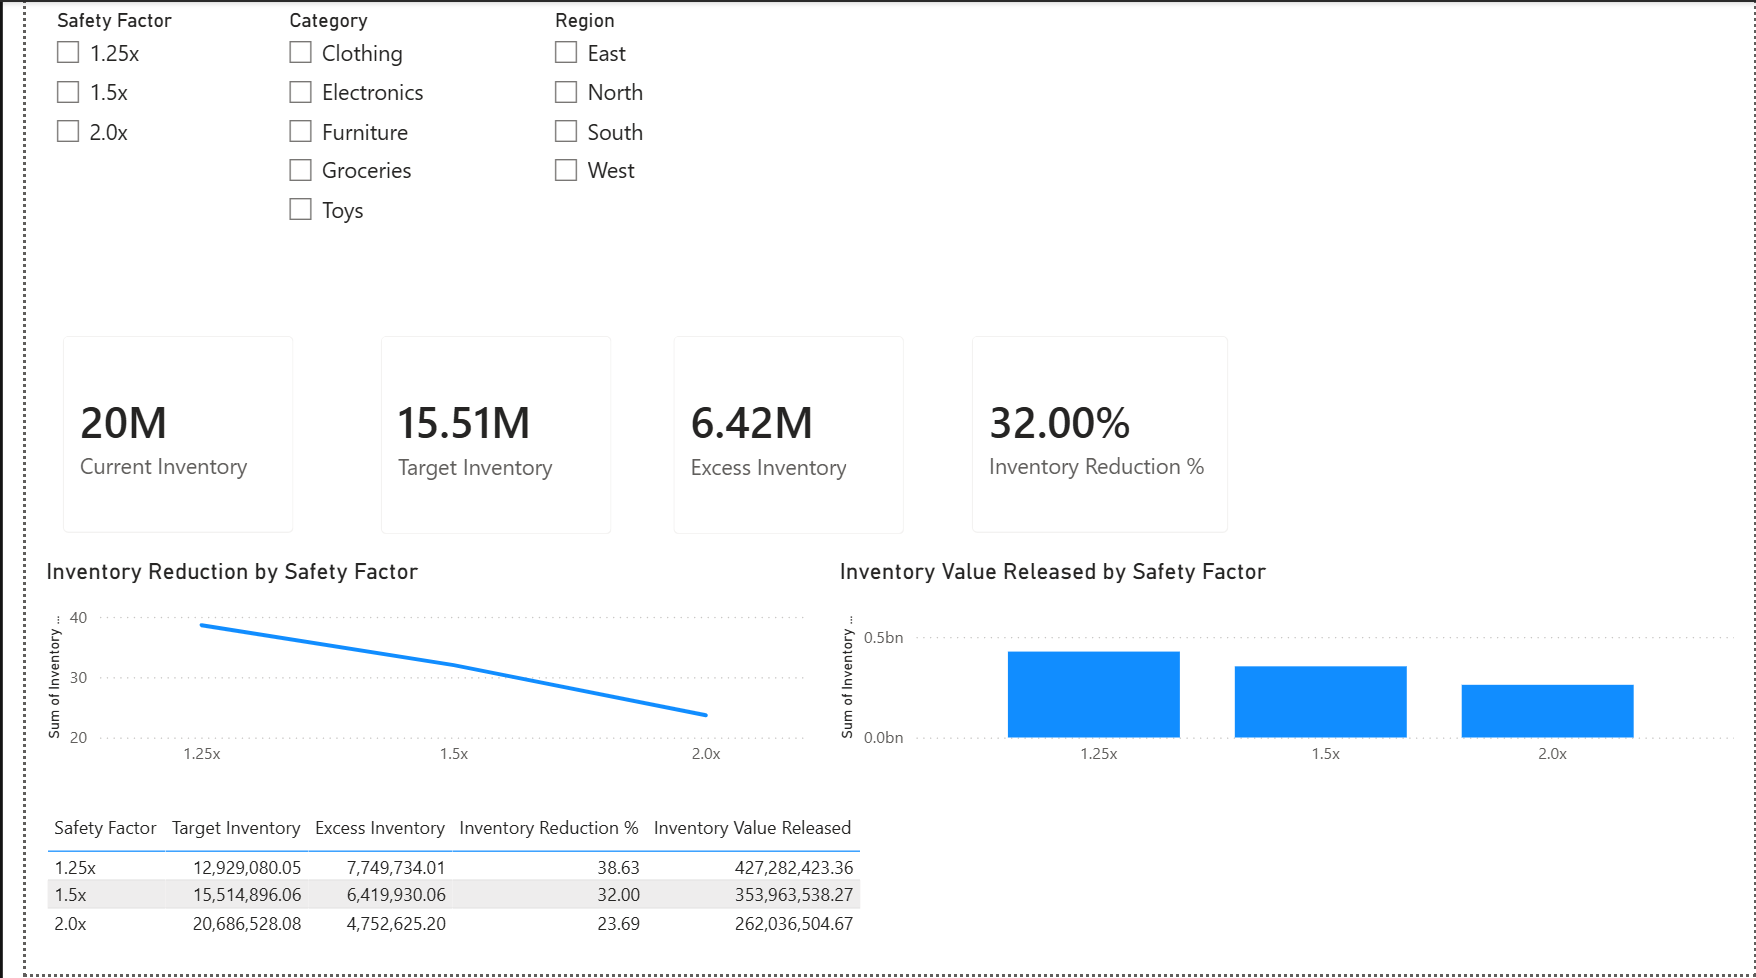

The dashboard page shown, as its layout file describes it:
{"tool":"powerbi","page":{"name":"Inventory Optimization","canvas":[1280,720],"ordinal":1},"visuals":[{"type":"slicer","fields":{"Values":["smart_retail_inventory_scenarios.Safety Factor"]},"box":[10.1,0,166.6,179.5],"z":0},{"type":"slicer","fields":{"Values":["retail_store_inventory.Category"]},"box":[182.4,0,165.1,179.5],"z":1000},{"type":"slicer","fields":{"Values":["retail_store_inventory.Region"]},"box":[379.1,0,142.2,165.1],"z":2000},{"type":"cardVisual","fields":{"Data":["retail_store_inventory.Current Inventory"]},"box":[10.1,229.8,205.4,180.9],"z":3000},{"type":"cardVisual","fields":{"Data":["retail_store_inventory.Target Inventory"]},"box":[245.6,229.8,205,181],"z":4000},{"type":"cardVisual","fields":{"Data":["retail_store_inventory.Excess Inventory"]},"box":[462.4,229.8,205,181],"z":5000},{"type":"cardVisual","fields":{"Data":["retail_store_inventory.Inventory Reduction %"]},"box":[683.6,229.8,224,180.9],"z":6000},{"type":"tableEx","fields":{"Values":["smart_retail_inventory_scenarios.Safety Factor","smart_retail_inventory_scenarios.Target Inventory","smart_retail_inventory_scenarios.Excess Inventory","smart_retail_inventory_scenarios.Inventory Reduction %","smart_retail_inventory_scenarios.Inventory Value Released"]},"box":[10.1,596,630.4,123.5],"z":7000},{"type":"lineChart","title":" Inventory Reduction by Safety Factor","fields":{"Category":["smart_retail_inventory_scenarios.Safety Factor"],"Y":["Sum(smart_retail_inventory_scenarios.Inventory Reduction %)"]},"box":[10.1,410.7,573,163.7],"z":8000},{"type":"clusteredColumnChart","title":" Inventory Value Released by Safety Factor","fields":{"Category":["smart_retail_inventory_scenarios.Safety Factor"],"Y":["Sum(smart_retail_inventory_scenarios.Inventory Value Released)"]},"box":[597.4,410.7,672.1,163.7],"z":9000}]}

Visuals, with their boxes in screenshot pixels (x1, y1, x2, y2), scaled from the page's 1280x720 canvas onto the 1756x978 screenshot:
slicer - smart_retail_inventory_scenarios.Safety Factor: (x1=14, y1=0, x2=242, y2=244)
slicer - retail_store_inventory.Category: (x1=250, y1=0, x2=477, y2=244)
slicer - retail_store_inventory.Region: (x1=520, y1=0, x2=715, y2=224)
cardVisual - retail_store_inventory.Current Inventory: (x1=14, y1=312, x2=296, y2=558)
cardVisual - retail_store_inventory.Target Inventory: (x1=337, y1=312, x2=618, y2=558)
cardVisual - retail_store_inventory.Excess Inventory: (x1=634, y1=312, x2=916, y2=558)
cardVisual - retail_store_inventory.Inventory Reduction %: (x1=938, y1=312, x2=1245, y2=558)
tableEx - smart_retail_inventory_scenarios.Safety Factor x smart_retail_inventory_scenarios.Target Inventory: (x1=14, y1=810, x2=879, y2=977)
" Inventory Reduction by Safety Factor" lineChart: (x1=14, y1=558, x2=800, y2=780)
" Inventory Value Released by Safety Factor" clusteredColumnChart: (x1=820, y1=558, x2=1742, y2=780)
